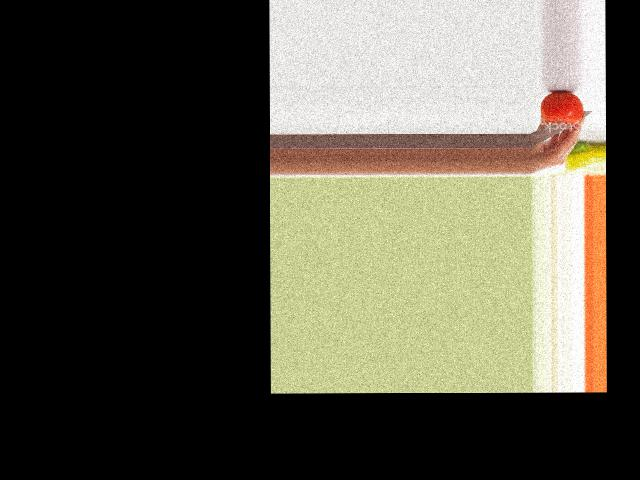tomato: (539, 91, 583, 124)
